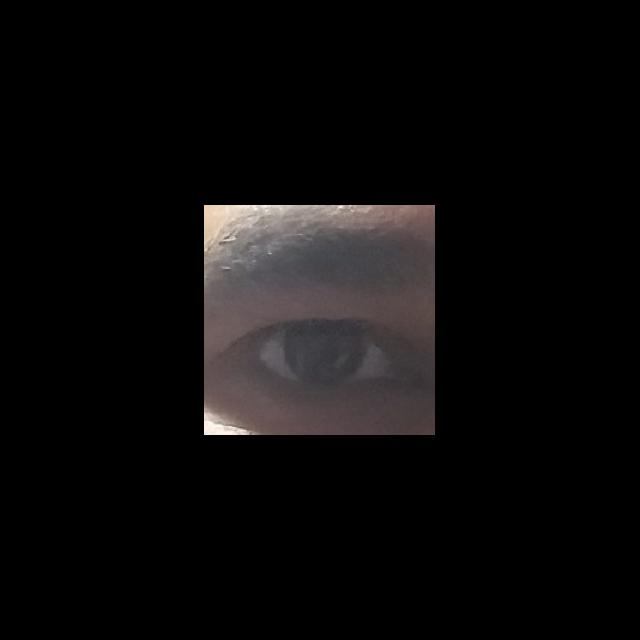eye: (256, 326, 391, 385)
iris: (283, 328, 368, 382)
